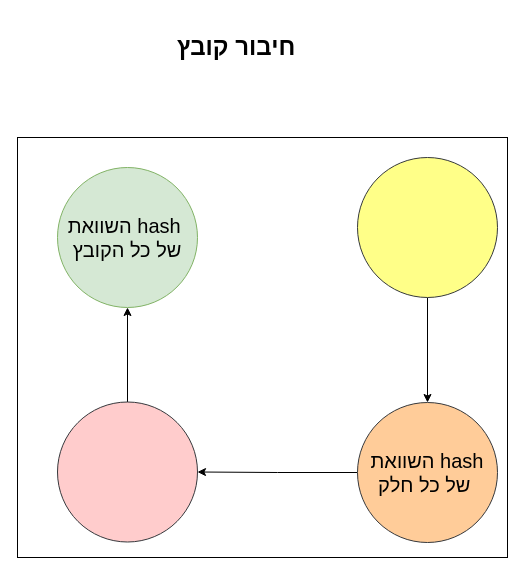
Some shapes in this 525 by 575 pixel diagram are drawn without their labels. The shapes that lost their labels are listed below. From the top down, each one's box as (x1, y1, x2, y2) in pixels, then its label:
(356, 156, 498, 298): פענוח כל חלק
(56, 401, 198, 542): חיבור חלק לפי מספור
